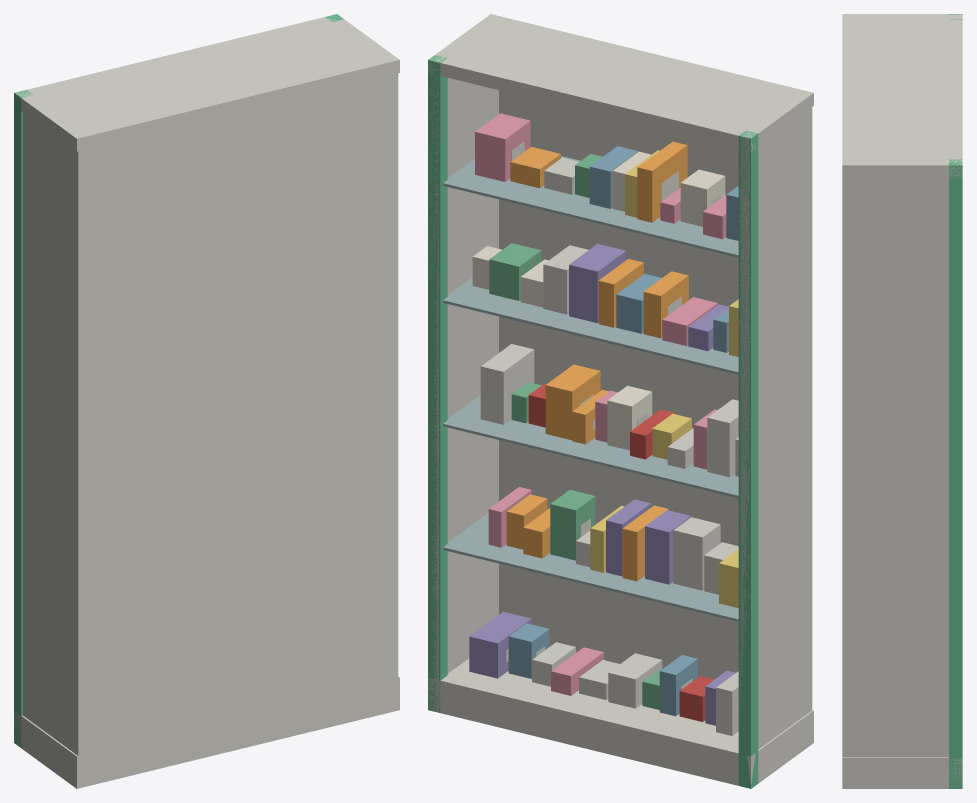
The model's file is glass_shelf.fbx.
The picture shows the model from 3 angles, left to right: view 1: azimuth 30°, elevation 25°; view 2: azimuth 150°, elevation 25°; view 3: azimuth 270°, elevation 25°; orthographic projection. The views are drawn at different scales.
Visible parts, largest first — view 1: glass_shelf; view 2: glass_shelf; view 3: glass_shelf.
Boxes of the visible parts, x1=… form: glass_shelf: x1=14, y1=14, x2=399, y2=788; glass_shelf: x1=428, y1=14, x2=813, y2=788; glass_shelf: x1=842, y1=14, x2=962, y2=788.
Bounding box in the file's own units: 104 × 200 × 35.
